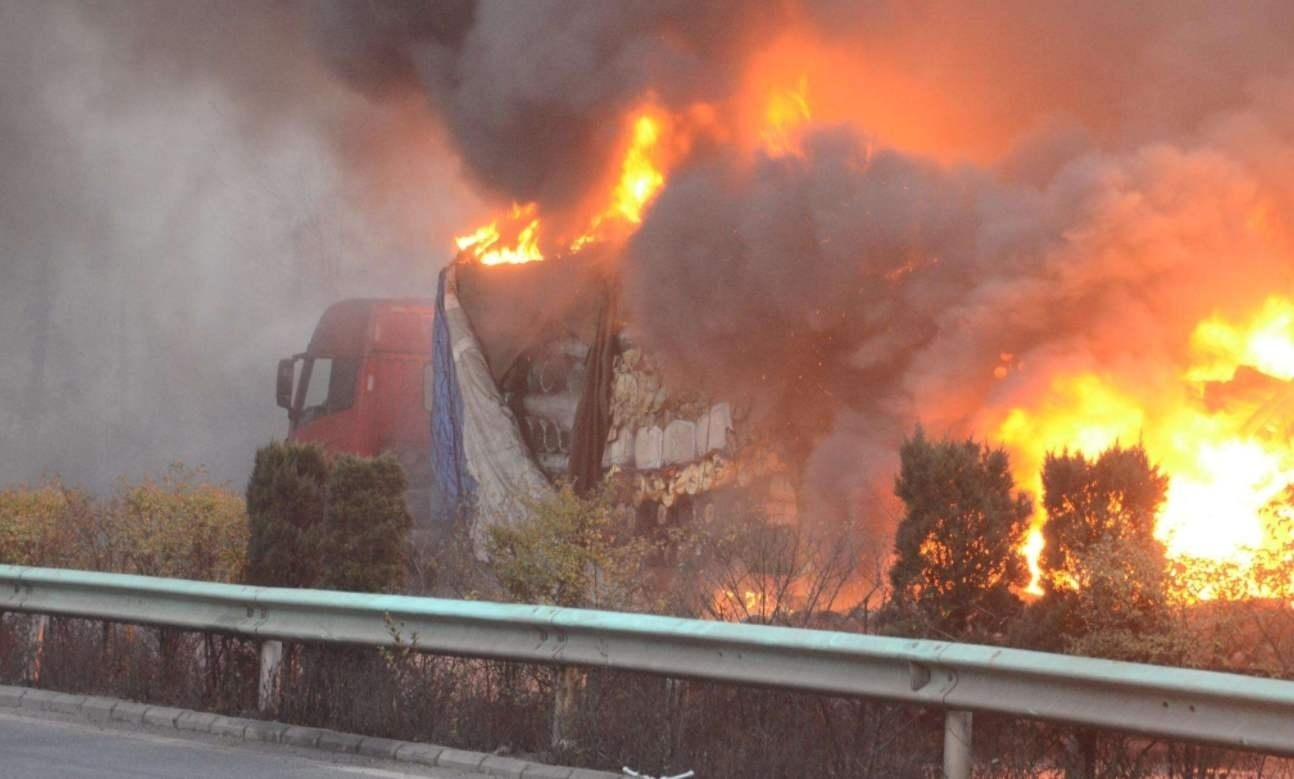fire: (993, 259, 1293, 615), (450, 54, 813, 271)
